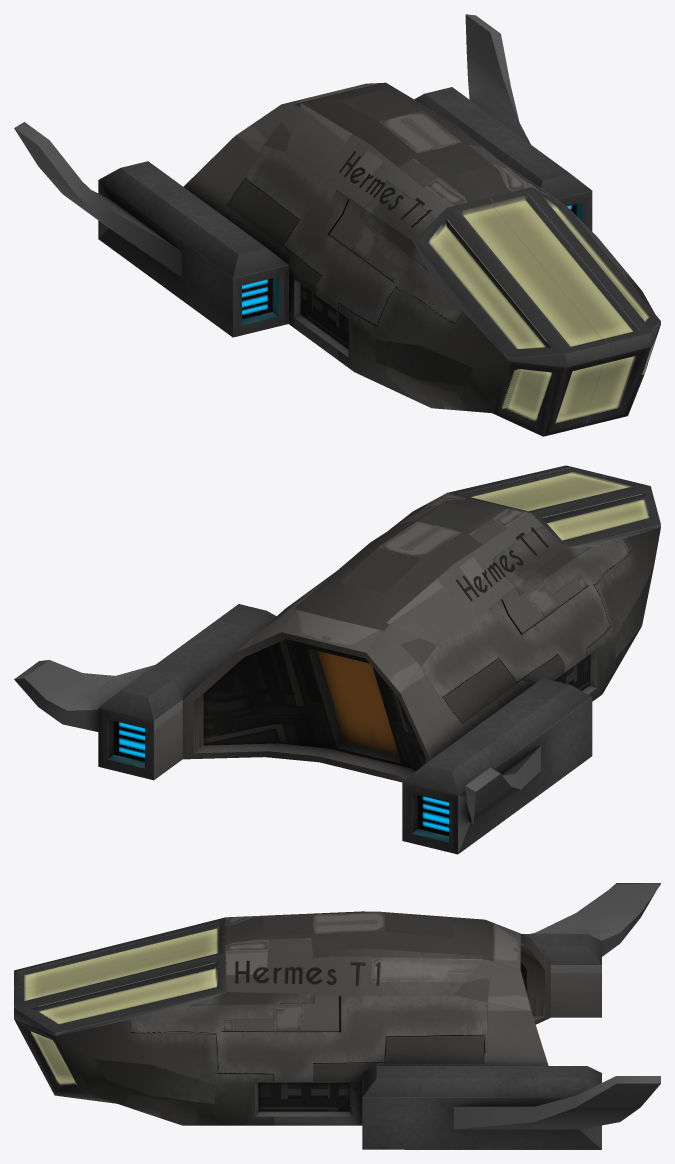
3 views of the same model, one above another, from view 1: azimuth 30°, elevation 25°; view 2: azimuth 150°, elevation 25°; view 3: azimuth 270°, elevation 25° (orthographic). The views are drawn at different scales.
Visible parts, largest first — view 1: Cube; view 2: Cube; view 3: Cube.
Part boxes in pixels (<box>): Cube: <box>14,14,660,436</box>; Cube: <box>14,465,660,854</box>; Cube: <box>14,883,660,1149</box>.
Size of the model in its own units: 719 by 289 by 980.
1 material, 1 textured.
